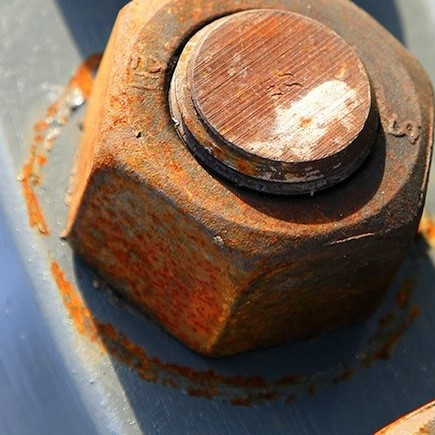bolt_b: (61, 2, 433, 357)
